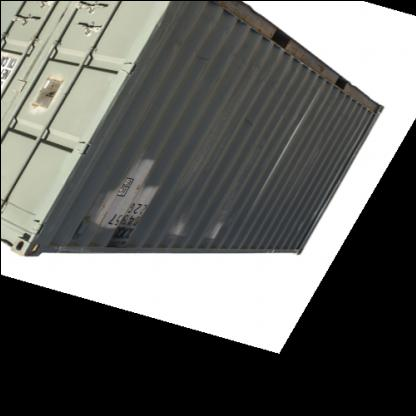Damage: (202, 194, 234, 249), (241, 112, 275, 156), (93, 196, 111, 232), (125, 174, 147, 198), (188, 50, 212, 66)
